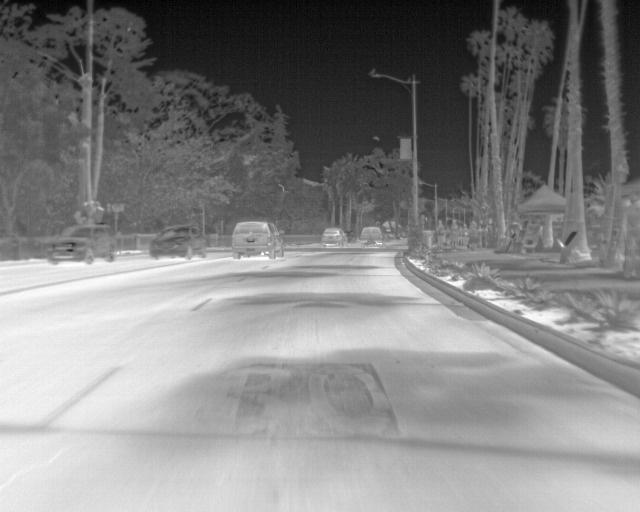bicycle: (47, 224, 118, 264), (230, 219, 286, 261), (148, 224, 208, 259), (358, 224, 387, 247), (321, 226, 351, 246)
